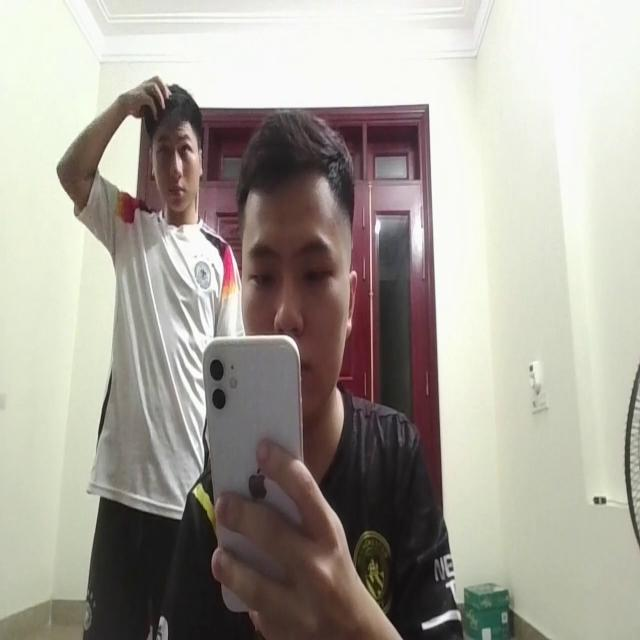extra_person: (74, 60, 225, 556)
phone: (195, 336, 315, 612)
student: (178, 101, 450, 640)
